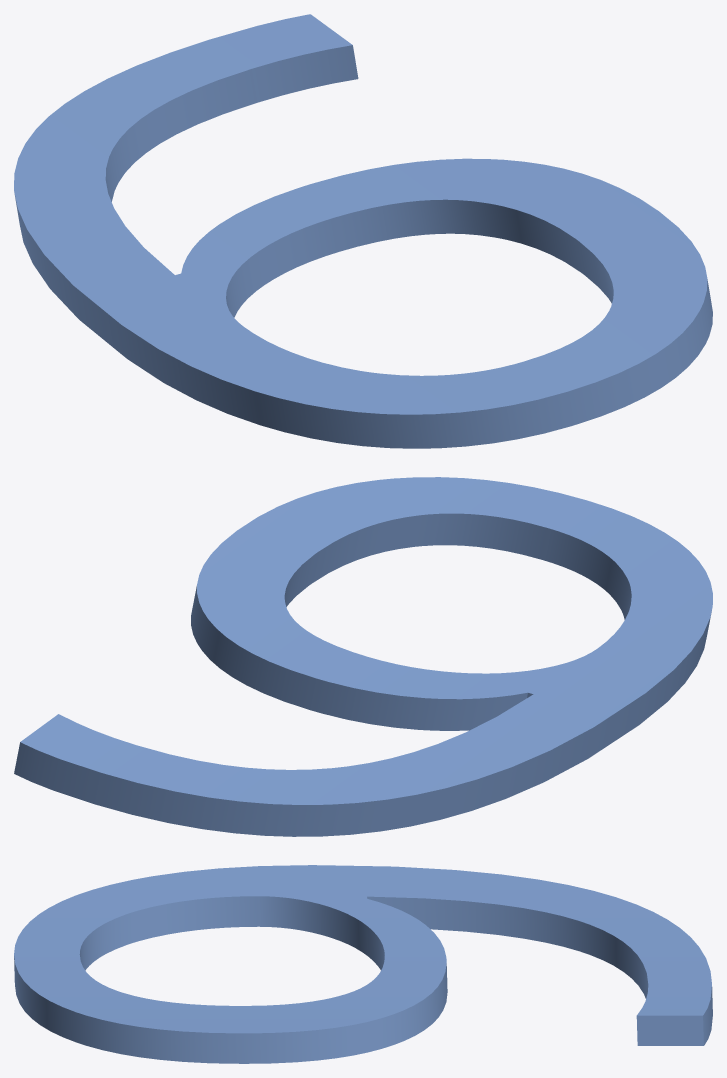
The model's file is New_Number_9.gltf.
3 views of the same model, one above another, from view 1: azimuth 30°, elevation 25°; view 2: azimuth 150°, elevation 25°; view 3: azimuth 270°, elevation 25° (orthographic). The views are drawn at different scales.
Parts seen in each view (by area): view 1: Part 288; view 2: Part 288; view 3: Part 288.
Boxes of the visible parts, bbox=[...] form: Part 288: bbox=[14, 14, 712, 448]; Part 288: bbox=[14, 477, 712, 836]; Part 288: bbox=[14, 865, 712, 1063].
Bounding box in the file's own units: 0.00366 × 0.000434 × 0.00567.
